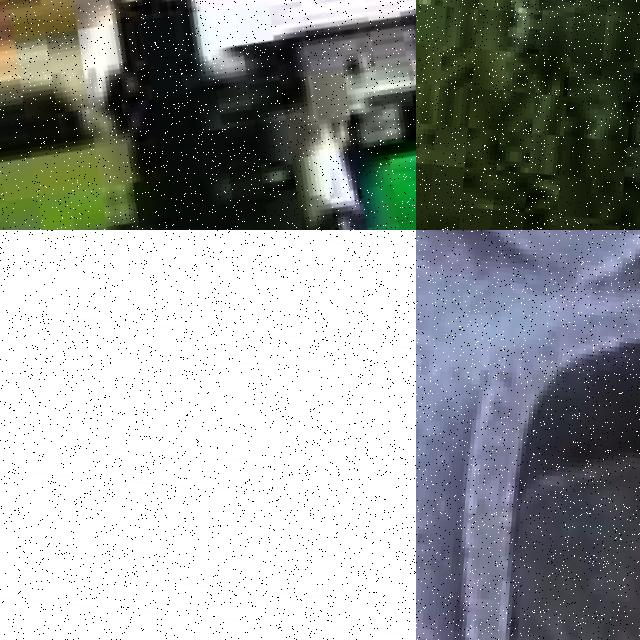drone: (0, 0, 416, 230)
